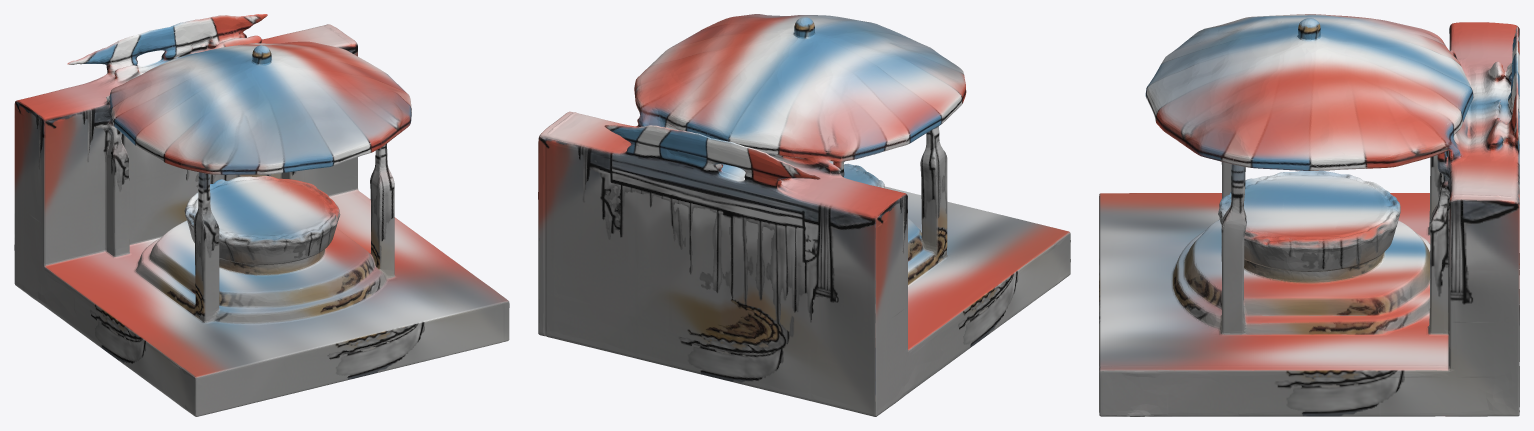
File: altar_good_neighbour.glb
The picture shows the model from 3 angles, left to right: view 1: azimuth 30°, elevation 25°; view 2: azimuth 150°, elevation 25°; view 3: azimuth 270°, elevation 25°; orthographic projection. The views are drawn at different scales.
Visible parts, largest first — view 1: altar_good_neighbour; view 2: altar_good_neighbour; view 3: altar_good_neighbour.
Boxes of the visible parts, x1=… form: altar_good_neighbour: x1=14, y1=14, x2=509, y2=416; altar_good_neighbour: x1=538, y1=14, x2=1070, y2=416; altar_good_neighbour: x1=1099, y1=14, x2=1519, y2=416.
Bounding box in the file's own units: 1.98 × 1.6 × 1.97.
1 material, 1 textured.
